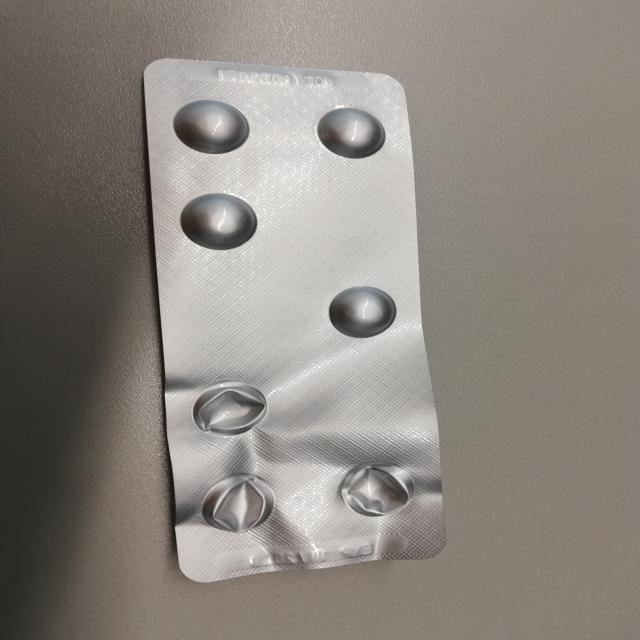Empty: (186, 378, 272, 438), (335, 457, 419, 518), (197, 473, 280, 534)
Pill: (174, 188, 259, 253), (170, 98, 256, 156), (312, 104, 391, 160), (325, 281, 399, 340)
